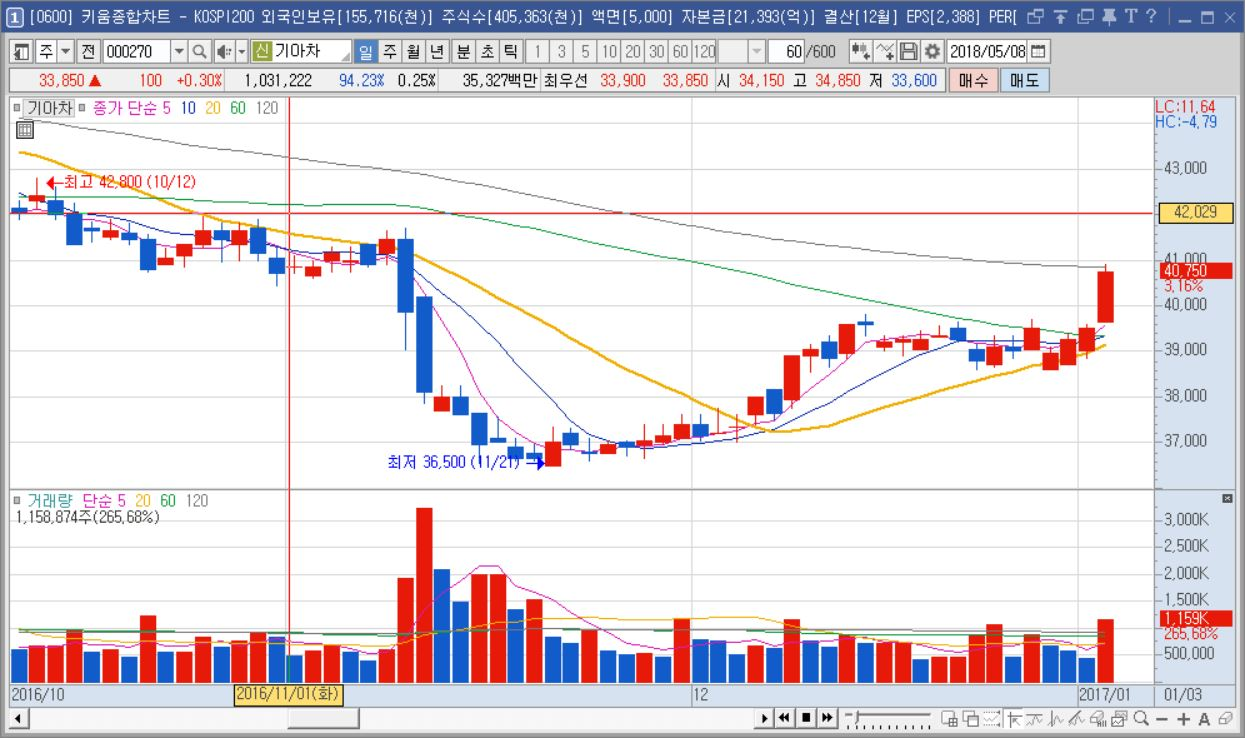up: (544, 247, 1116, 683)
